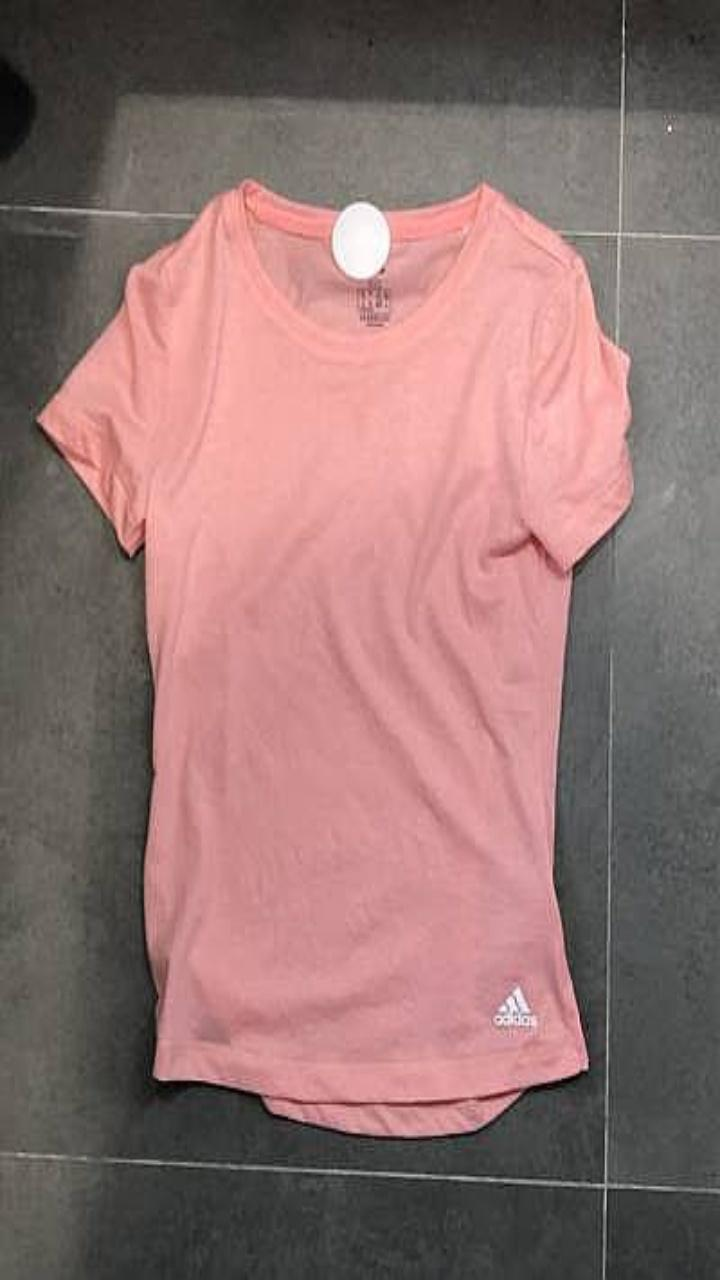T-Shirt: (37, 177, 631, 1136)
